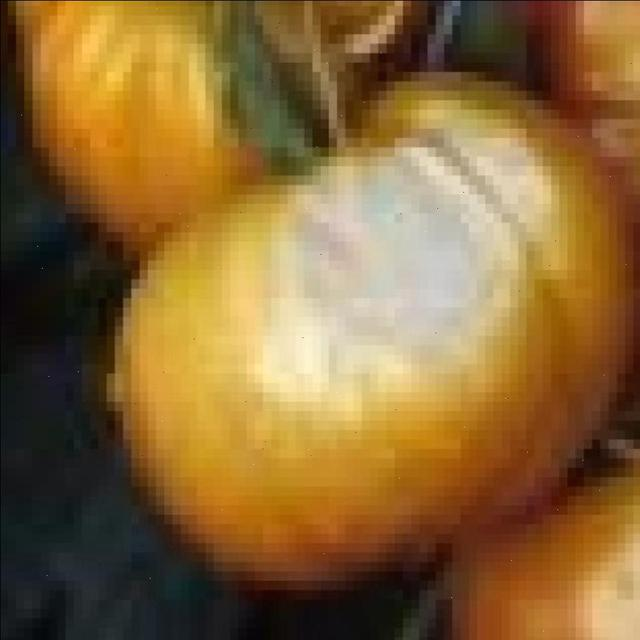Sunscald Fruit: (169, 82, 367, 277)
